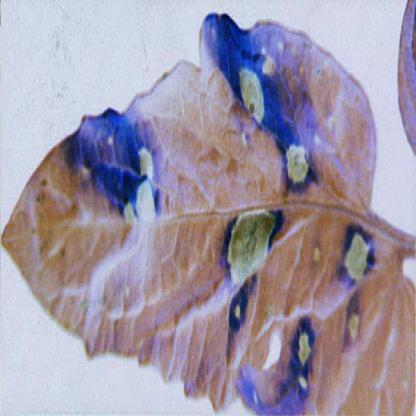Potato leaf early blight: (3, 2, 381, 414)
